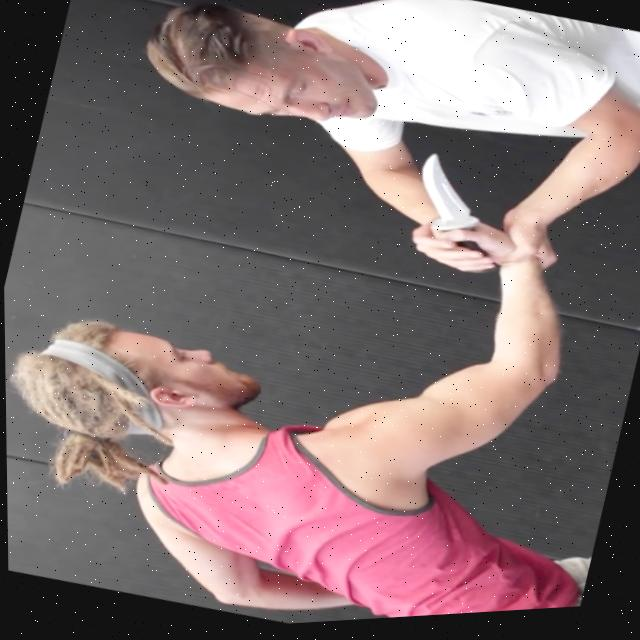knife: (393, 148, 503, 262)
